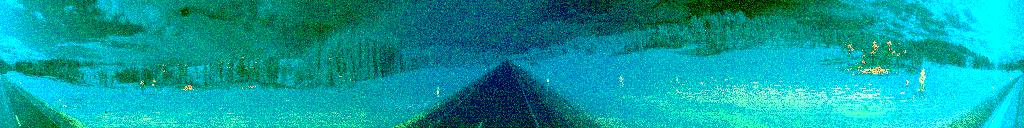pole: (545, 70, 551, 104), (436, 82, 441, 110)
